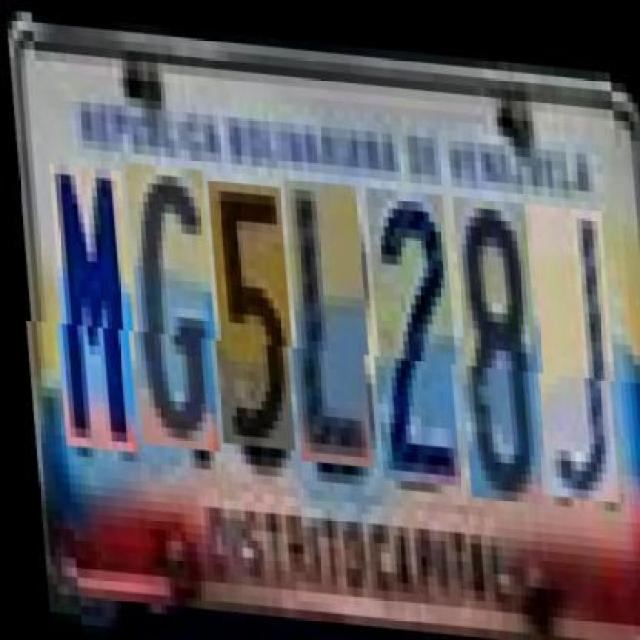2: (363, 179, 459, 478)
5: (205, 177, 293, 446)
8: (450, 186, 541, 494)
g: (121, 160, 217, 449)
j: (527, 192, 618, 491)
l: (280, 173, 371, 461)
m: (46, 163, 136, 451)
